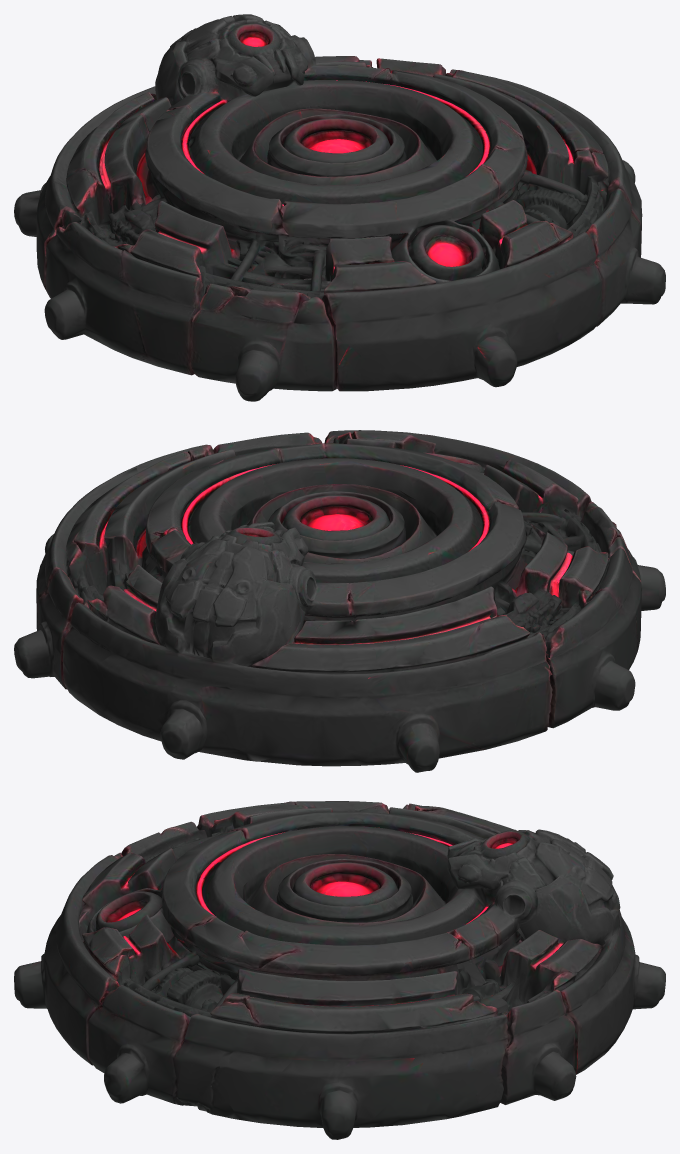
The model's file is gravon.glb.
The picture shows the model from 3 angles, top to bottom: view 1: azimuth 30°, elevation 25°; view 2: azimuth 150°, elevation 25°; view 3: azimuth 270°, elevation 25°; orthographic projection. The views are drawn at different scales.
Parts seen in each view (by area): view 1: gravon; view 2: gravon; view 3: gravon.
Boxes of the visible parts, x1=… form: gravon: x1=14, y1=14, x2=665, y2=401; gravon: x1=14, y1=430, x2=665, y2=772; gravon: x1=14, y1=801, x2=665, y2=1139.
Size of the model in its own units: 1.9 by 0.5463 by 1.9.
1 material, 1 textured.
